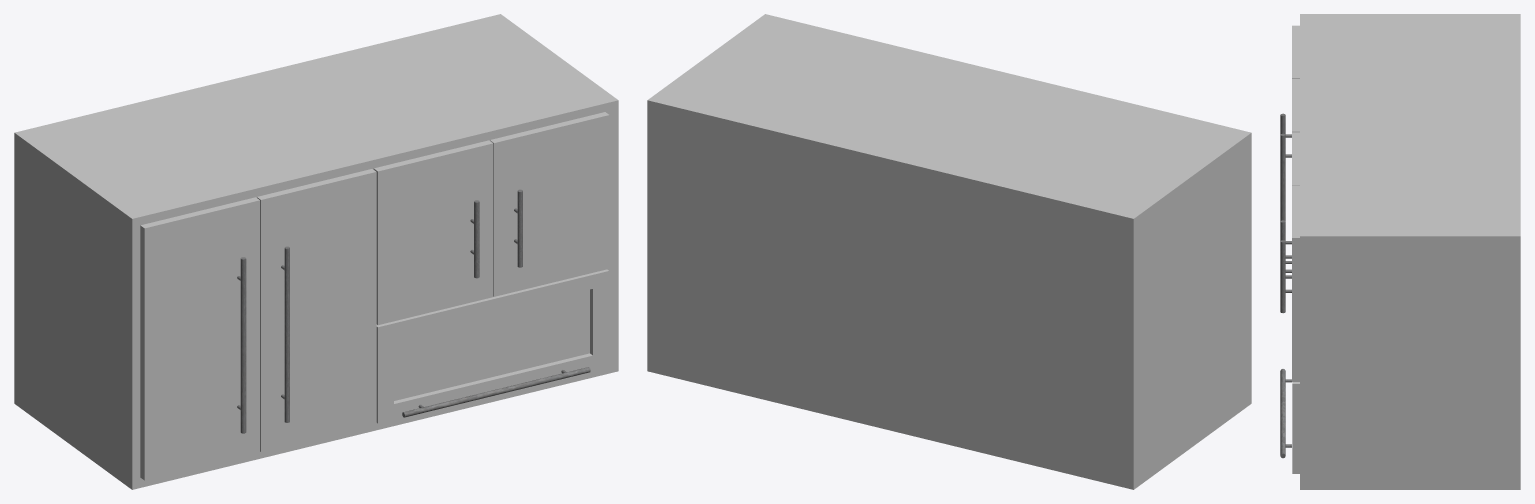
The model's file is SM_Kitchen_Top_3.FBX.
The picture shows the model from 3 angles, left to right: view 1: azimuth 30°, elevation 25°; view 2: azimuth 150°, elevation 25°; view 3: azimuth 270°, elevation 25°; orthographic projection. The views are drawn at different scales.
Visible parts, largest first — view 1: SM_Kitchen_Top_3; view 2: SM_Kitchen_Top_3; view 3: SM_Kitchen_Top_3.
Boxes of the visible parts, x1=… form: SM_Kitchen_Top_3: x1=14, y1=14, x2=618, y2=489; SM_Kitchen_Top_3: x1=647, y1=14, x2=1251, y2=489; SM_Kitchen_Top_3: x1=1280, y1=14, x2=1520, y2=489.
Size of the model in its own units: 2.19 by 1.17 by 1.
